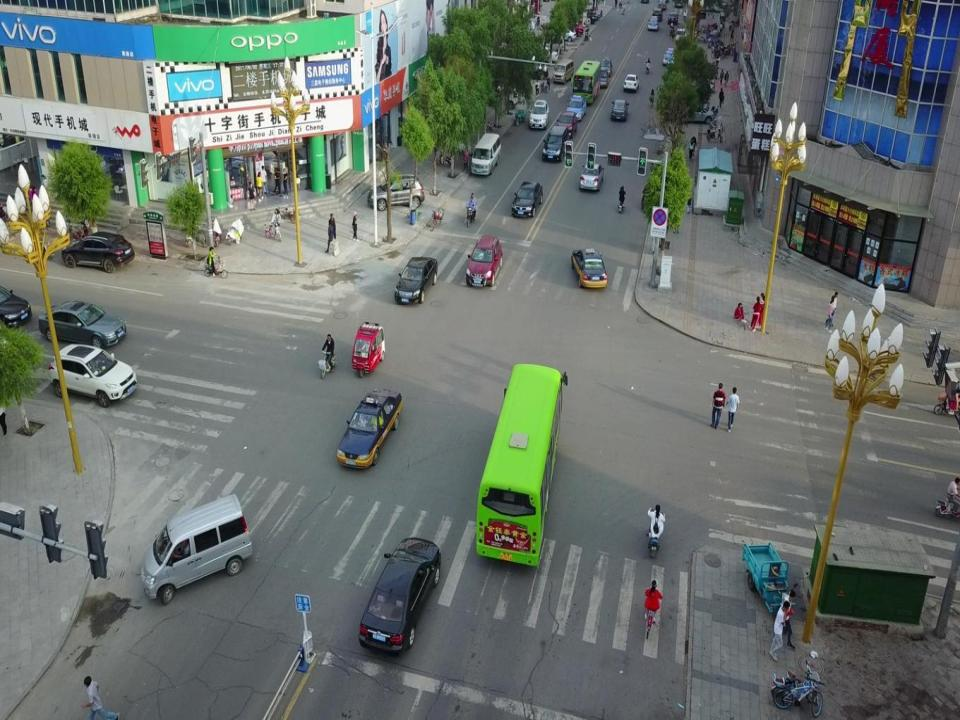bus: (475, 363, 568, 567), (569, 61, 602, 106)
car: (357, 535, 441, 657), (48, 342, 138, 408), (336, 386, 402, 468), (38, 299, 127, 351), (61, 231, 136, 274), (394, 256, 438, 305), (367, 174, 425, 210), (465, 234, 503, 288), (571, 248, 608, 288), (0, 285, 32, 329), (511, 181, 544, 218), (542, 125, 570, 163), (674, 99, 714, 125), (556, 110, 578, 140), (564, 94, 587, 122), (528, 100, 549, 130), (610, 99, 630, 121), (624, 74, 640, 94), (595, 67, 609, 89), (662, 47, 676, 69), (598, 56, 612, 75), (675, 28, 688, 46), (647, 13, 660, 31), (667, 10, 679, 26), (651, 7, 663, 22), (656, 0, 666, 10)
van: (142, 494, 253, 605), (470, 133, 502, 177), (552, 58, 575, 85)
